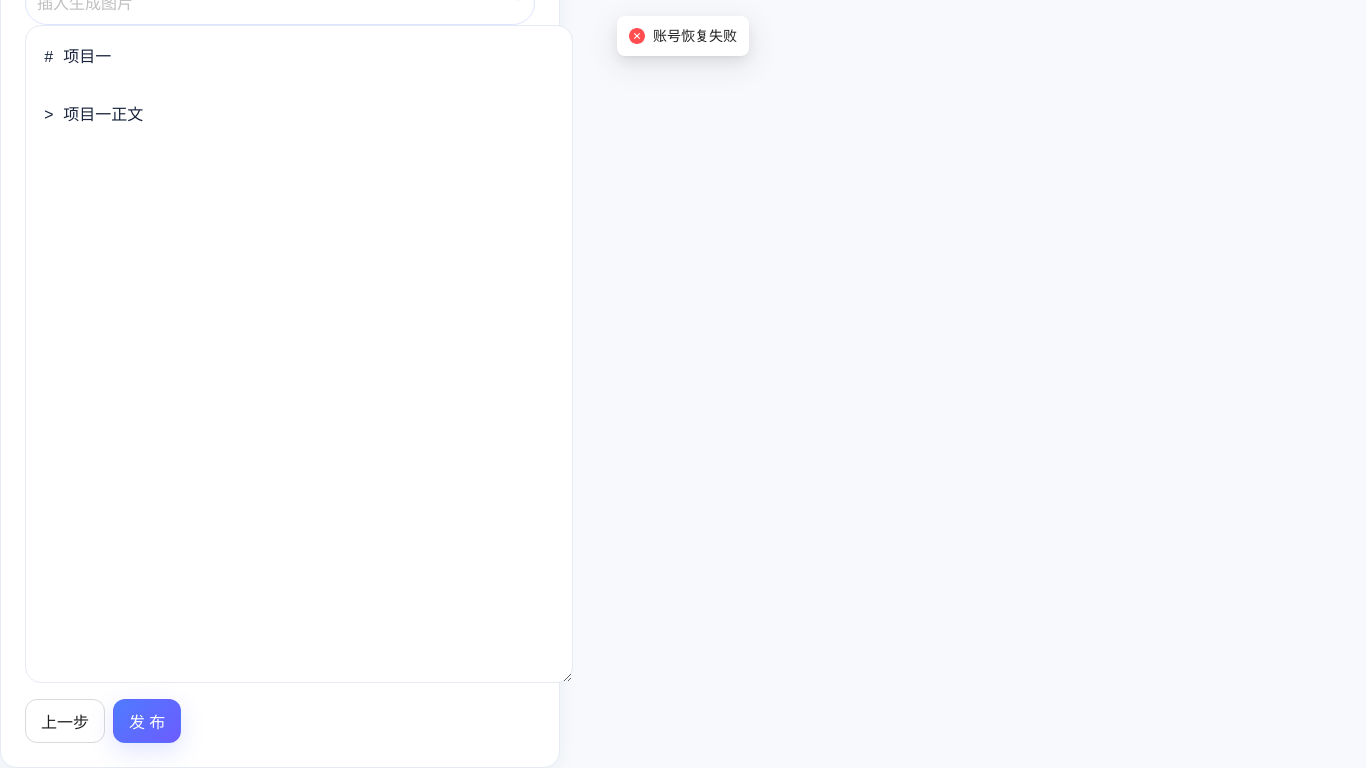
Test: Creator publishing › maps the two publish buttons to draft and publish for an authorized WeChat account only
(page scrolled)
Click the button "发 布" at coordinates (147, 721), box [113,699,181,743]
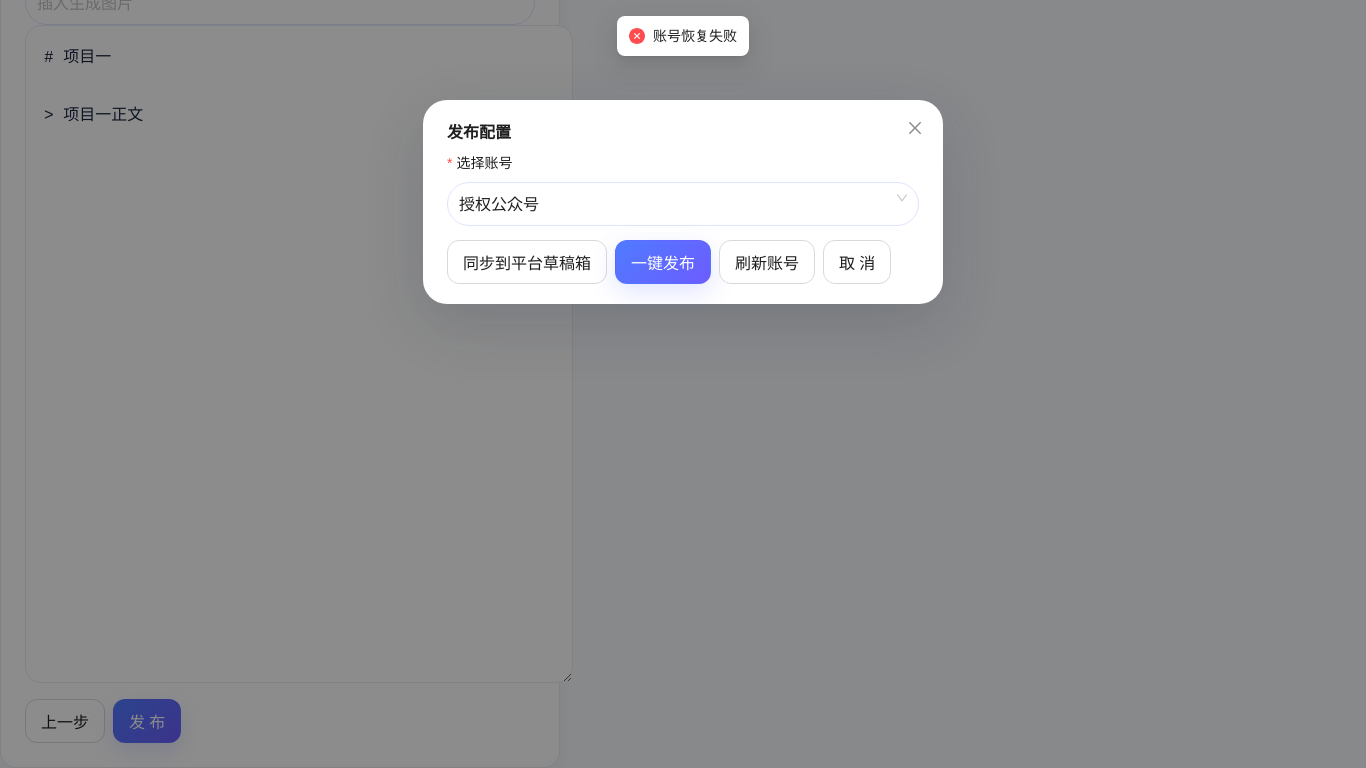
Now the search field with id "account_id" is shown
Press the mouse on the dropdown with id "account_id" at coordinates (487, 163), box [447,152,526,174]
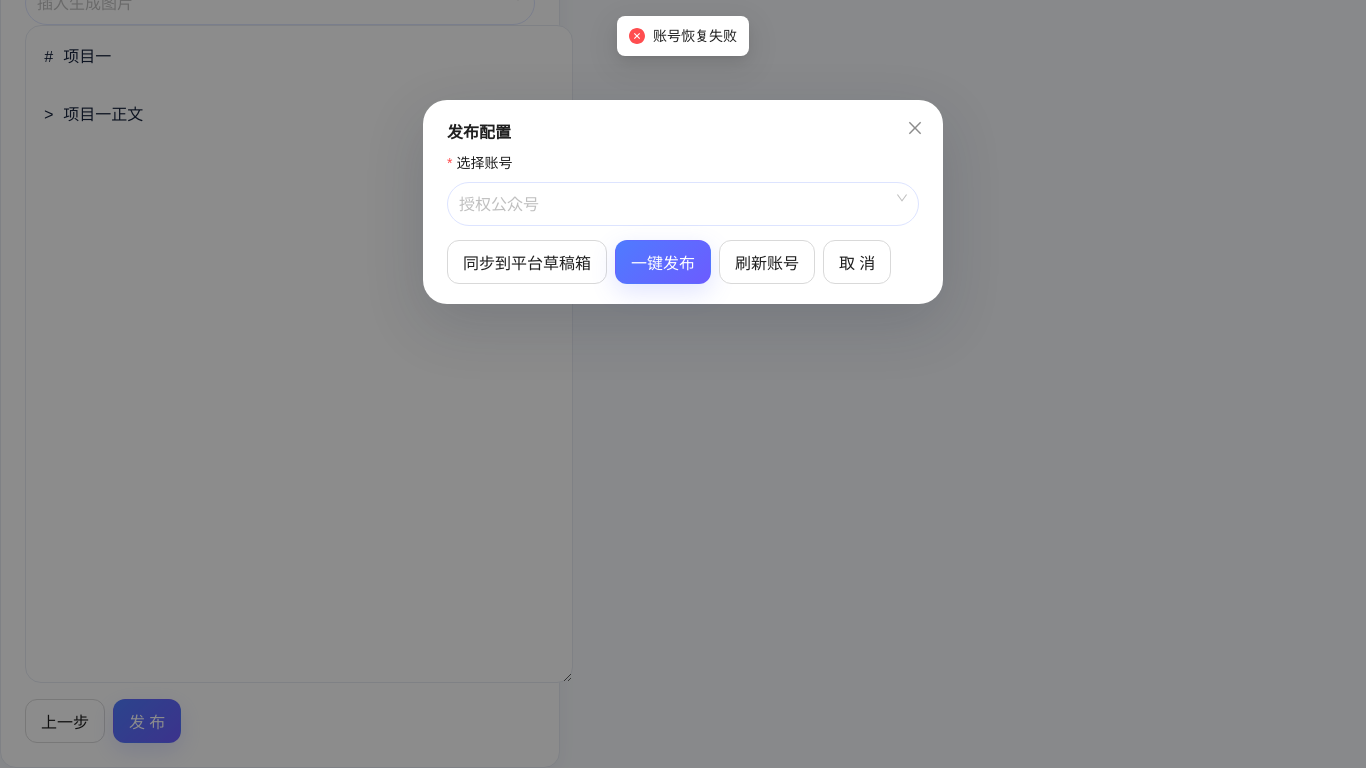
Now the text "授权公众号" is shown, box [459,194,539,214]
Click the button "同步到平台草稿箱" at coordinates (527, 262), box [447,240,607,284]
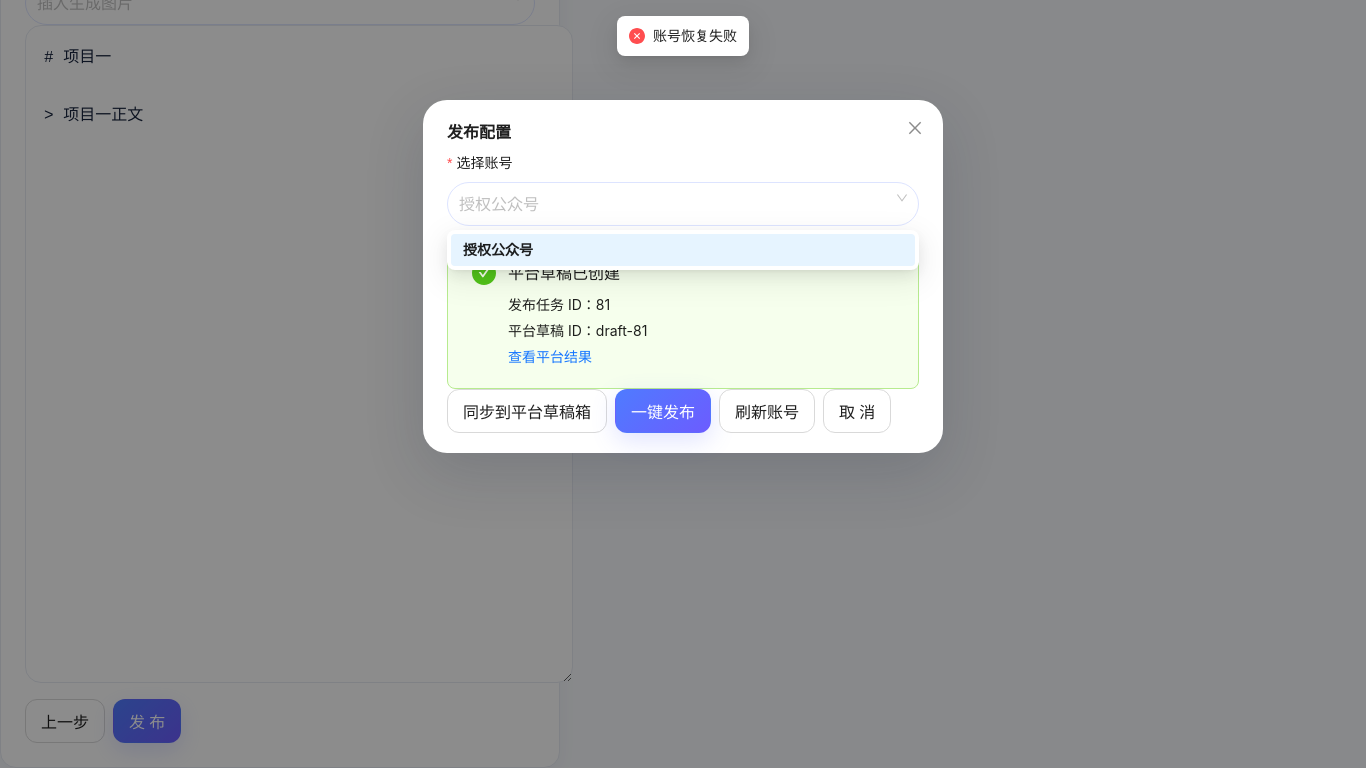
Click the button "一键发布" at coordinates (663, 411), box [615,389,711,433]
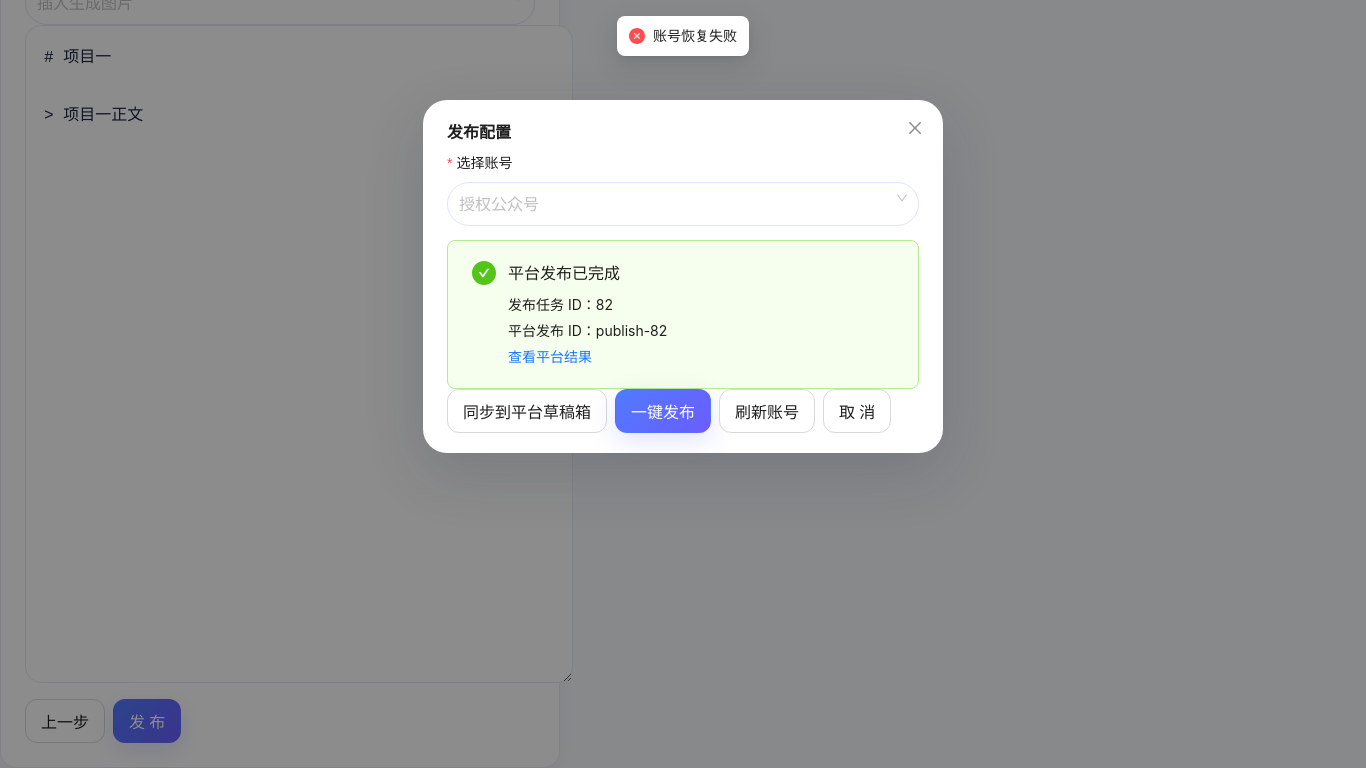
Now the text "平台发布 ID：publish-82" is shown, box [508,322,667,339]
